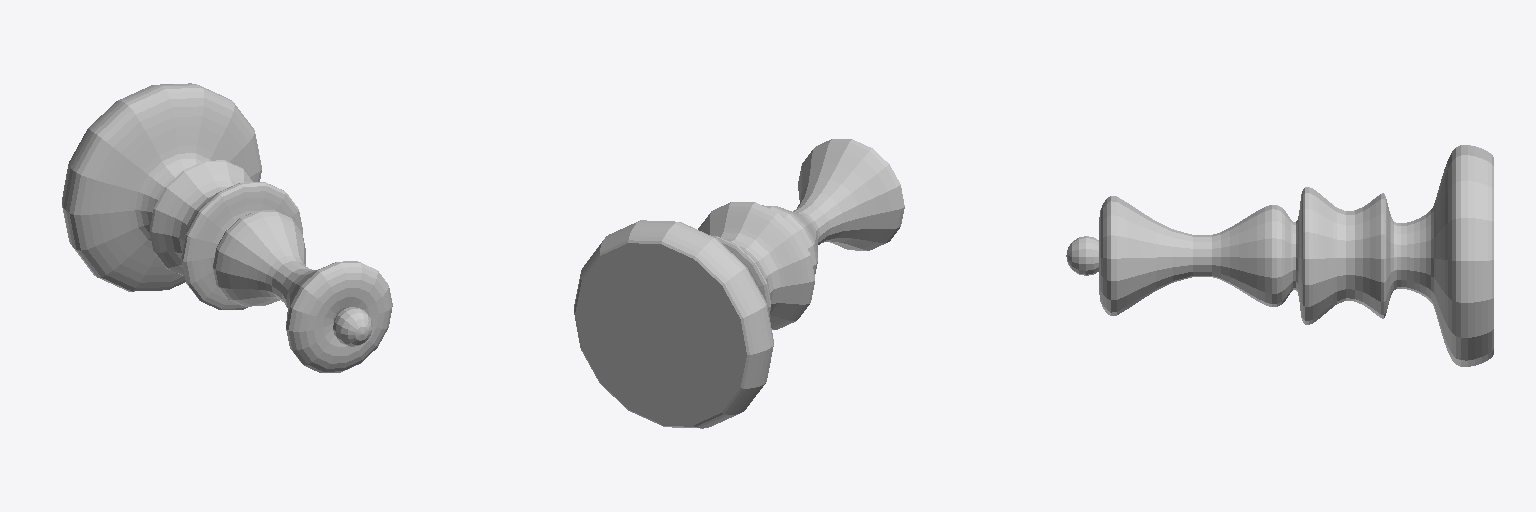
File: queen.obj
3 renders of one model, left to right at view 1: azimuth 30°, elevation 25°; view 2: azimuth 150°, elevation 25°; view 3: azimuth 270°, elevation 25°, orthographic.
Parts seen in each view (by area): view 1: Mesh_Mesh.018_White_Quee, Mesh.001_Mesh.029_White_Que0; view 2: Mesh_Mesh.018_White_Quee; view 3: Mesh_Mesh.018_White_Quee, Mesh.001_Mesh.029_White_Que0.
Part boxes in pixels (x1,y1,x2,y2): Mesh_Mesh.018_White_Quee: (62, 83, 392, 372); Mesh.001_Mesh.029_White_Que0: (333, 307, 372, 346); Mesh_Mesh.018_White_Quee: (574, 139, 904, 428); Mesh_Mesh.018_White_Quee: (1099, 145, 1493, 366); Mesh.001_Mesh.029_White_Que0: (1066, 236, 1098, 275).
Size of the model in its own units: 38.78 by 38.78 by 74.47.